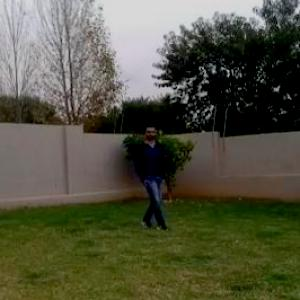follow: (140, 126, 167, 232)
